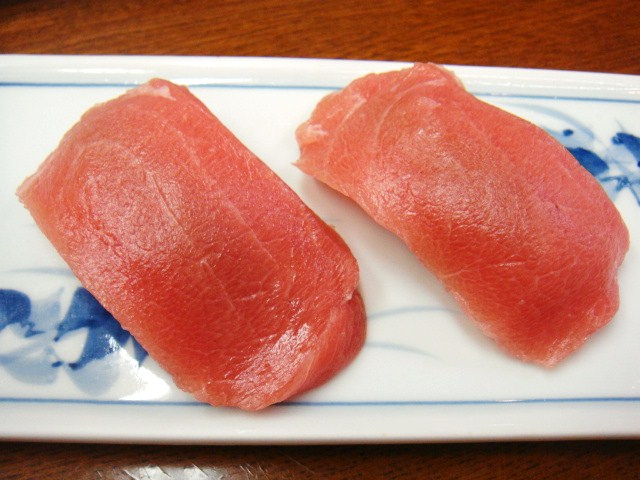medium_fatty_tuna: (17, 78, 365, 416), (302, 54, 633, 371)
